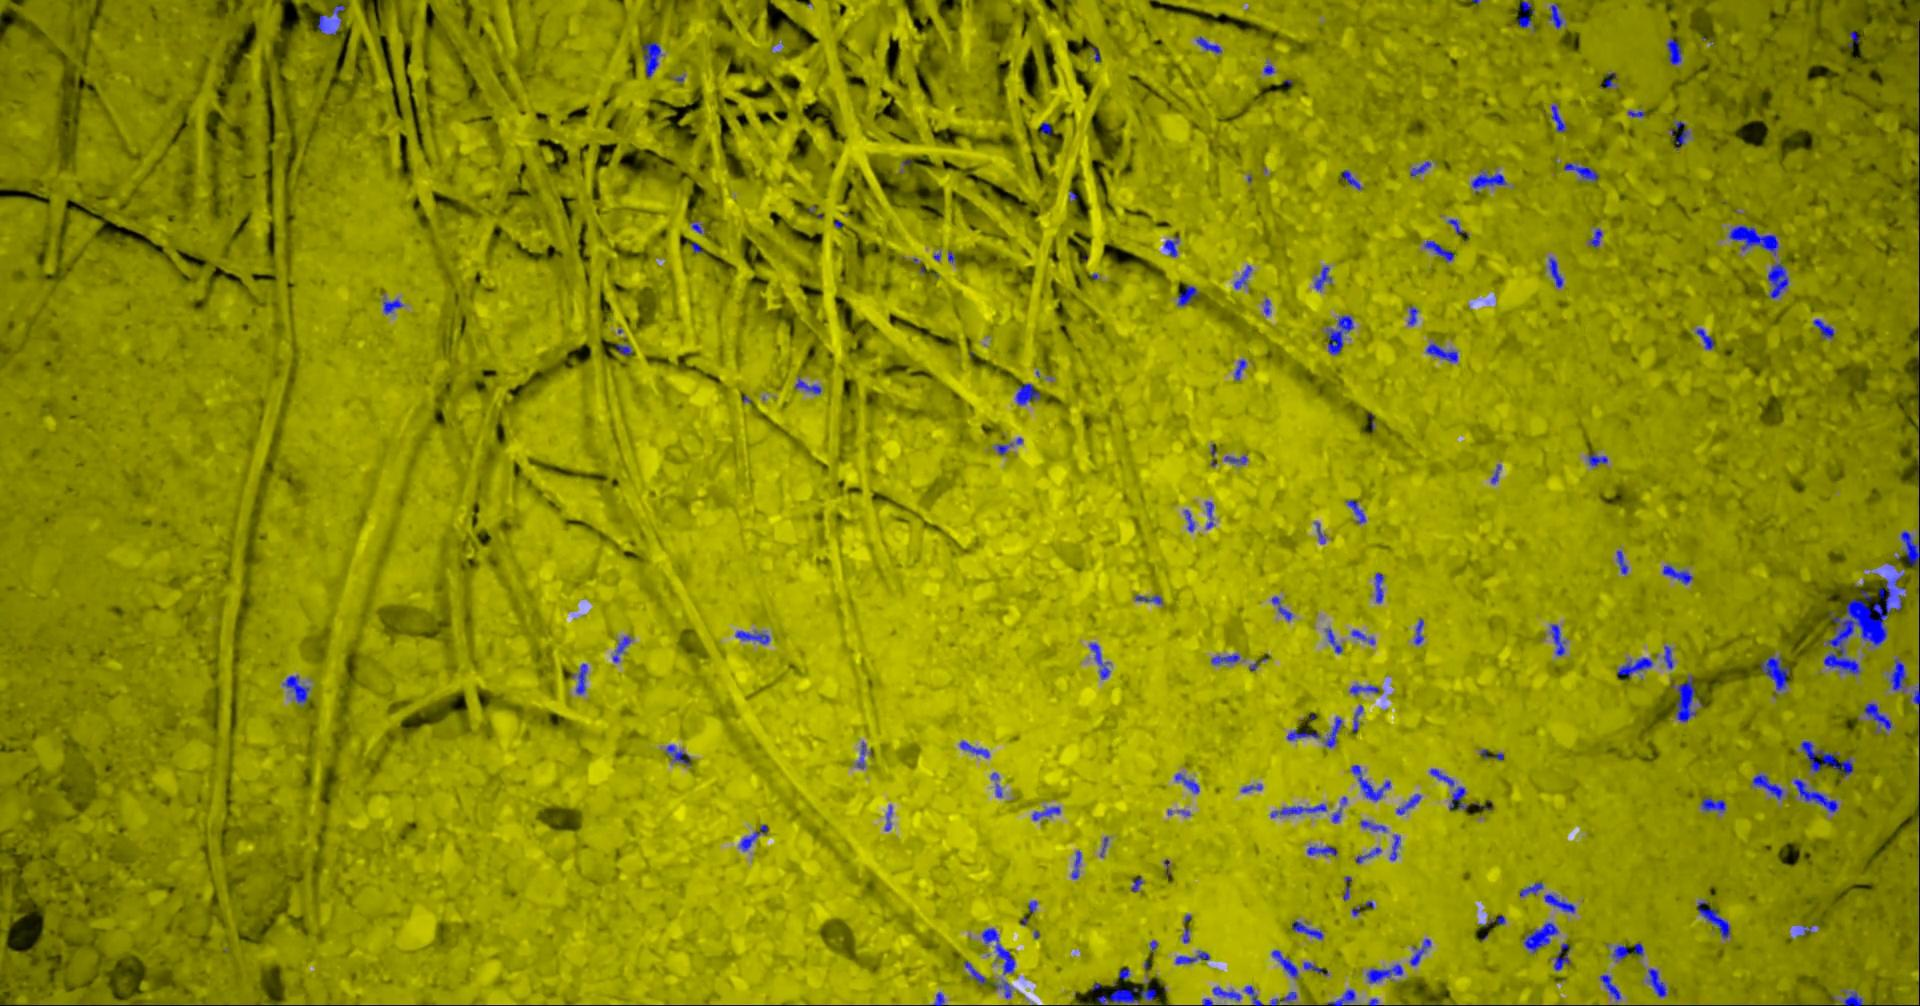ant: (1801, 741, 1853, 776), (1429, 768, 1467, 810), (982, 927, 1015, 974), (1728, 225, 1778, 255), (1351, 763, 1390, 801), (1793, 779, 1837, 812), (1671, 674, 1700, 721), (1697, 901, 1730, 937), (1096, 986, 1156, 1005), (1523, 921, 1558, 951), (1326, 315, 1352, 354), (1760, 655, 1789, 690), (1751, 774, 1783, 799), (1270, 803, 1326, 817), (1900, 530, 1919, 570), (641, 41, 662, 77), (1768, 262, 1788, 298), (1090, 643, 1110, 680), (282, 674, 309, 702), (1863, 702, 1891, 729), (1271, 949, 1297, 978), (1470, 171, 1506, 192), (1617, 657, 1652, 677), (1366, 963, 1402, 983), (739, 824, 767, 850), (1543, 893, 1575, 913), (1423, 240, 1454, 260), (1563, 163, 1597, 180), (1425, 343, 1457, 362), (1291, 920, 1323, 939), (1410, 937, 1430, 965), (1646, 968, 1666, 996), (1662, 565, 1691, 584), (963, 960, 985, 984), (1599, 974, 1620, 1000), (1396, 793, 1420, 814), (1670, 119, 1688, 149), (1890, 658, 1905, 691), (570, 663, 587, 694), (1324, 716, 1341, 747), (959, 741, 989, 757), (1015, 384, 1039, 404), (1345, 499, 1365, 523), (1271, 596, 1291, 620), (1175, 950, 1209, 964), (1195, 36, 1222, 53), (1176, 285, 1199, 305), (1553, 942, 1570, 970), (665, 744, 690, 763), (1324, 627, 1342, 653), (734, 630, 770, 643), (1550, 624, 1564, 655), (316, 14, 338, 34), (1340, 169, 1361, 189), (1175, 774, 1197, 793), (1233, 264, 1251, 288), (612, 636, 630, 661), (1548, 257, 1562, 287), (1327, 989, 1355, 1005), (1695, 328, 1714, 349), (1031, 807, 1060, 821), (1211, 986, 1241, 1000), (1517, 0, 1533, 27), (1666, 37, 1681, 64), (794, 377, 820, 392), (1355, 847, 1382, 862), (1314, 265, 1331, 290), (1813, 318, 1832, 338), (1550, 104, 1564, 131), (1270, 991, 1297, 1005), (990, 981, 1011, 998), (1244, 984, 1262, 1005), (1549, 3, 1563, 28), (1303, 962, 1328, 976), (1351, 629, 1374, 644), (1286, 730, 1321, 741), (1702, 796, 1724, 812), (1349, 683, 1378, 695), (1163, 235, 1178, 257), (1305, 845, 1337, 855), (1519, 882, 1542, 895), (1611, 944, 1629, 962), (1210, 654, 1239, 664), (1351, 705, 1363, 730), (1410, 161, 1430, 175), (382, 298, 403, 312), (1070, 850, 1081, 878), (1843, 991, 1863, 1005), (331, 4, 344, 25), (1374, 572, 1383, 602), (1587, 453, 1608, 466), (1413, 619, 1423, 644), (1360, 821, 1385, 831), (1389, 835, 1399, 860), (1599, 72, 1615, 88), (856, 741, 865, 768), (1479, 749, 1503, 760), (990, 772, 1001, 796), (1589, 227, 1601, 246), (1135, 594, 1162, 603), (1407, 305, 1418, 325), (1234, 359, 1246, 380), (1617, 550, 1627, 573), (1183, 509, 1194, 531), (1205, 500, 1213, 528), (1224, 455, 1247, 464), (1663, 645, 1672, 668), (615, 343, 631, 354), (1343, 876, 1351, 899), (1848, 30, 1858, 47), (1039, 122, 1051, 135), (1633, 942, 1643, 956), (933, 991, 943, 1005)
